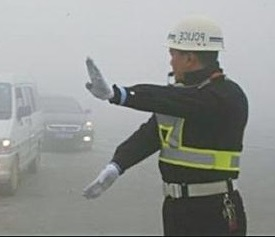person: (81, 14, 252, 237)
